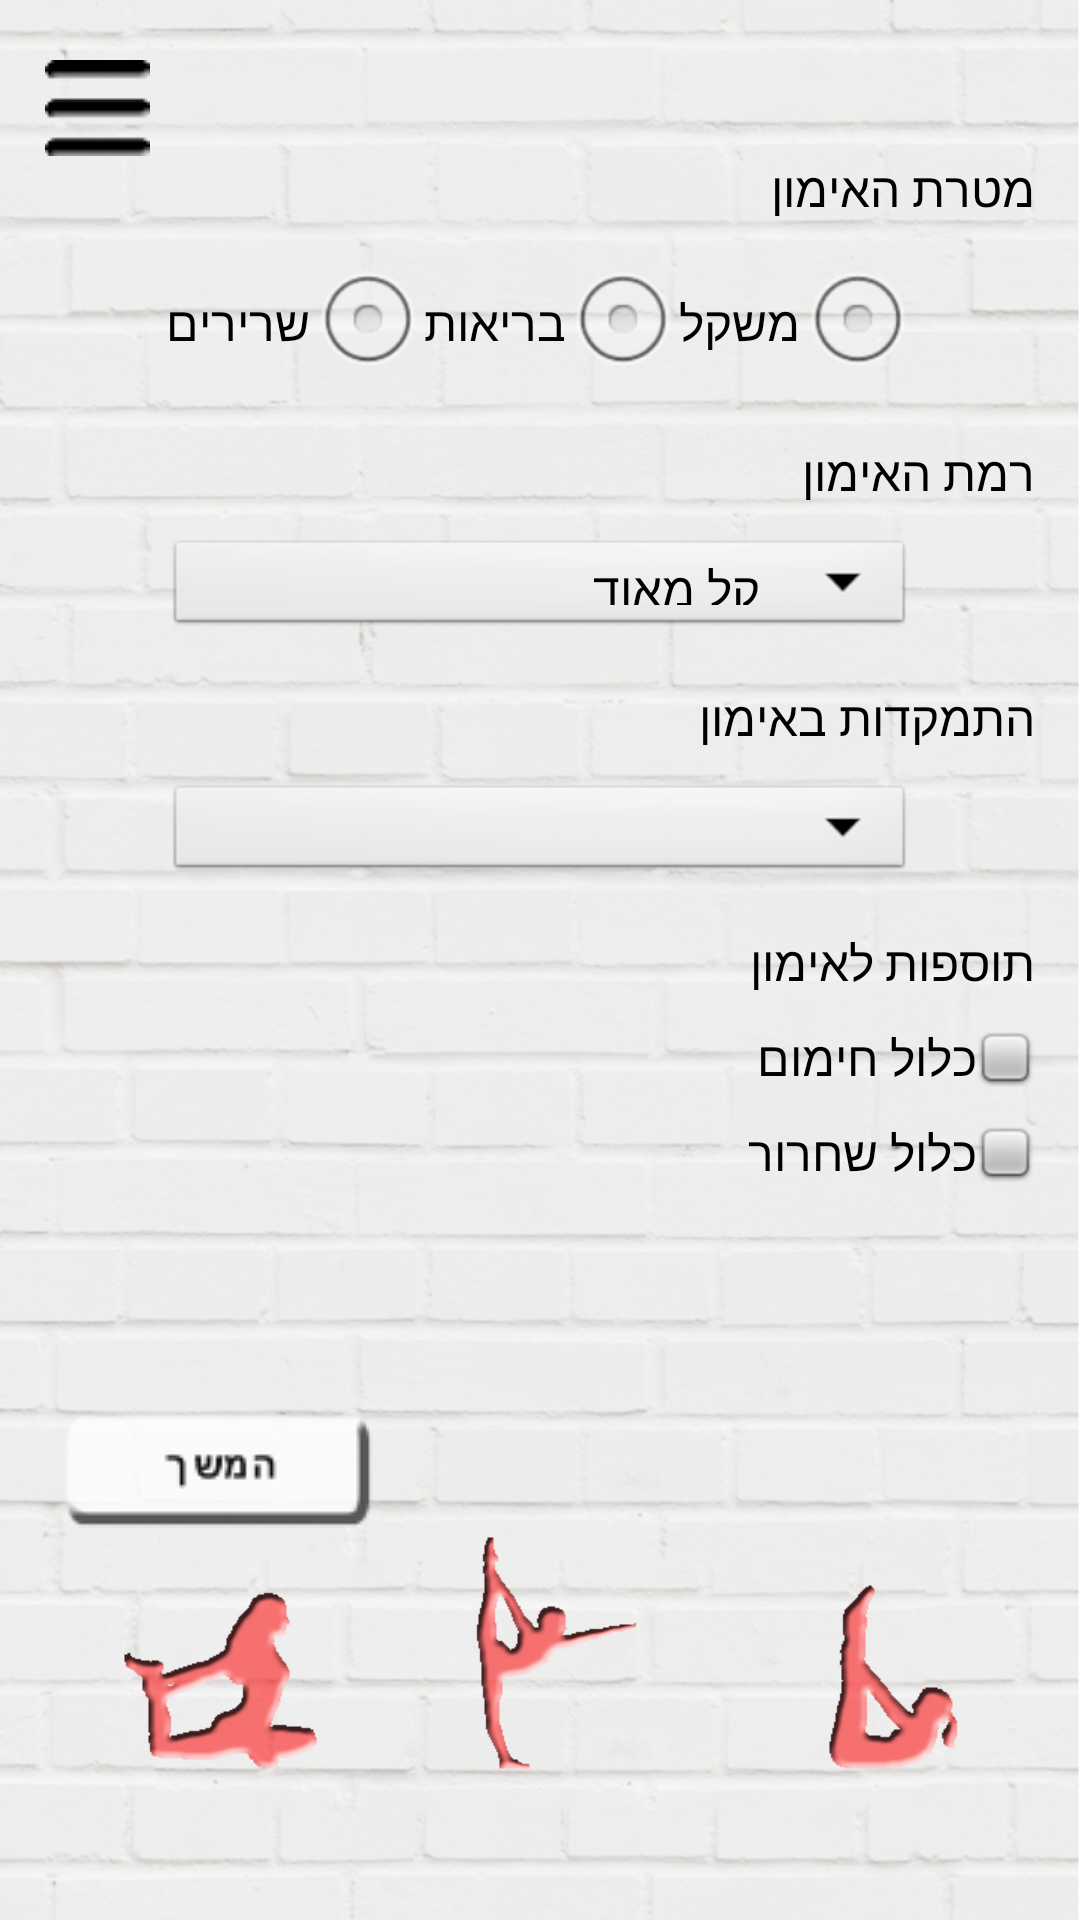

Locate icon controls on the screen. Image size 1080px×1920px, boxes as detection(x1, y1, x2, y2).
תפריט: detection(45, 60, 150, 156)
